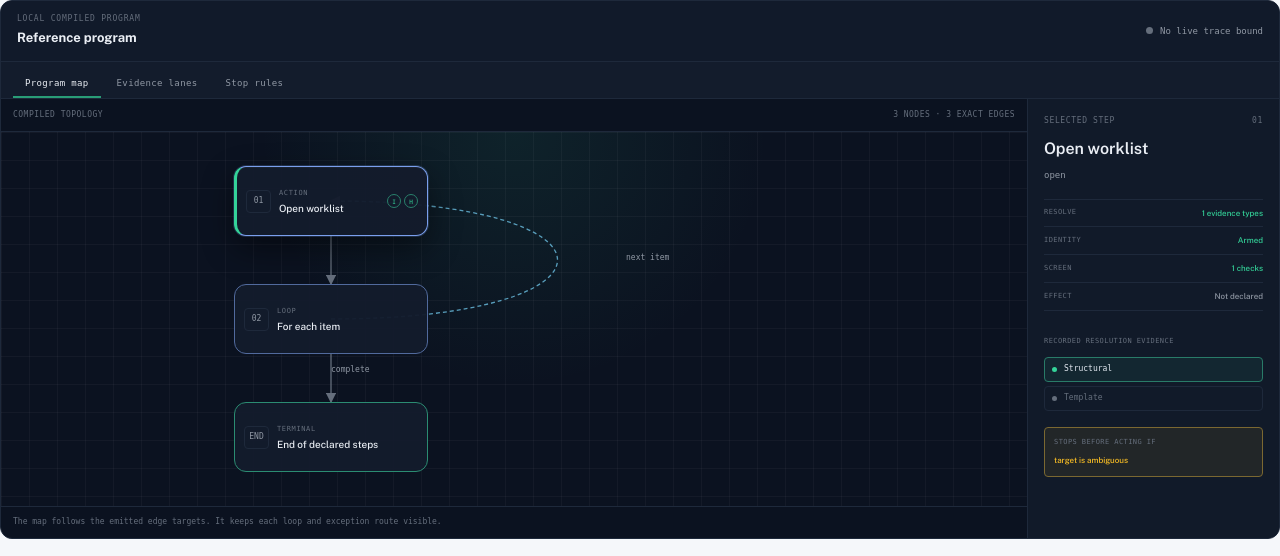
Test: ProgramWorkbench › switches from the map to the declared evidence lanes
This screenshot has width=1280, height=556.
Click the tab "Evidence lanes" at (157, 84), box [105, 70, 210, 98]
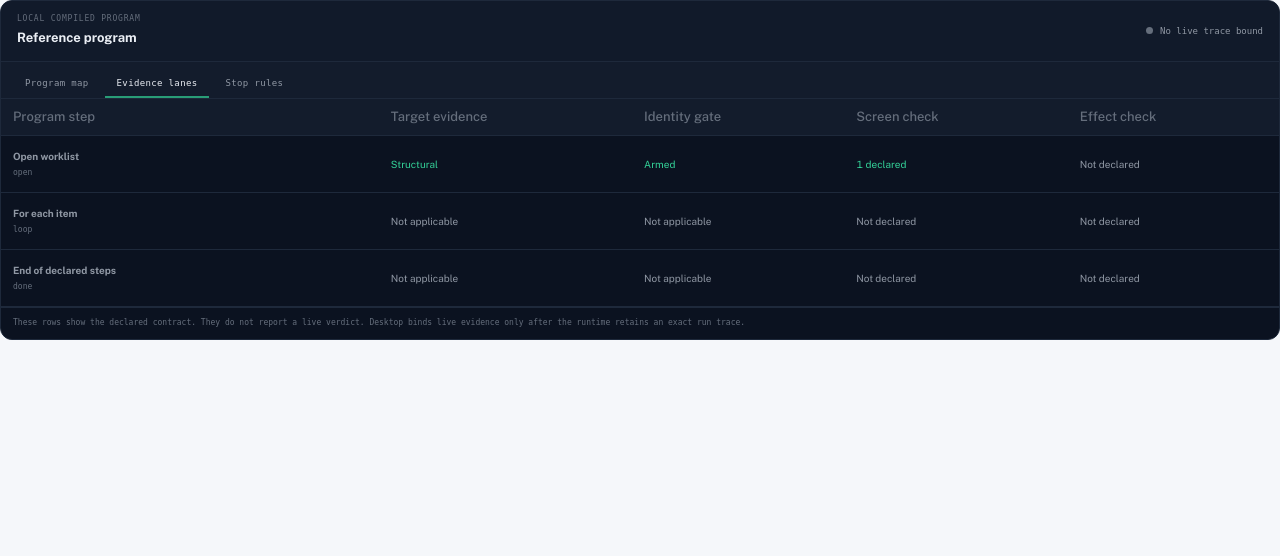
Expected: the text "Structural" is shown, [379, 136, 632, 193]
Now the column heading "Target evidence" is shown, box [379, 99, 632, 136]
Now the text "do not report a live verdict" is shown, box [13, 318, 745, 327]
